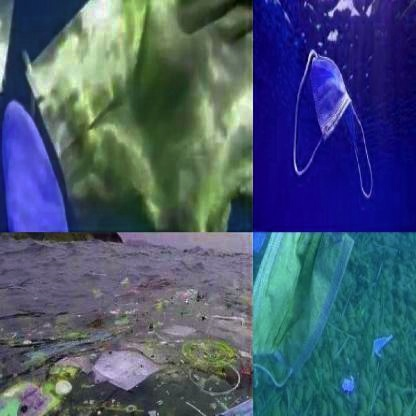Mask: (28, 0, 252, 231), (253, 232, 367, 404), (293, 45, 374, 203), (364, 322, 394, 378), (208, 390, 252, 415), (336, 369, 358, 401), (253, 232, 271, 262)
glove: (0, 99, 88, 231)
